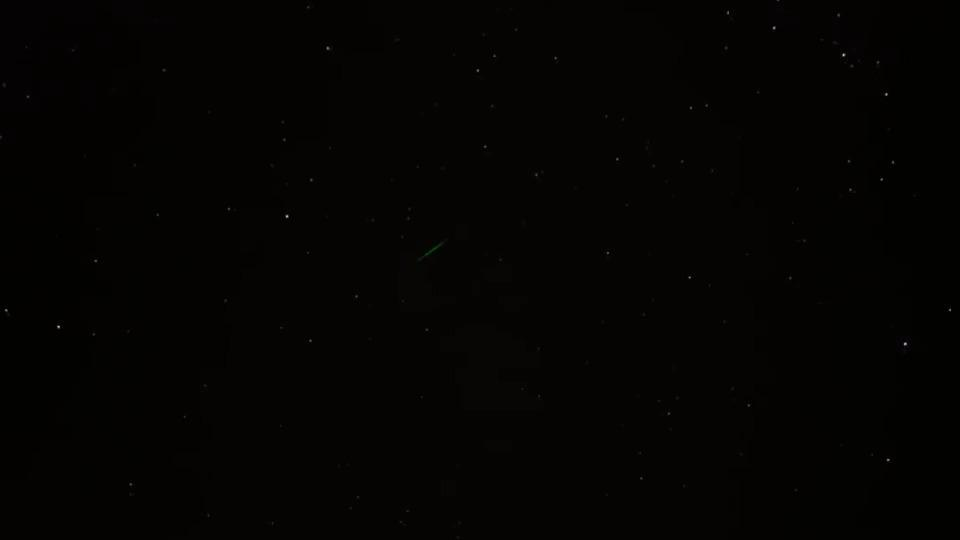meteorite: (381, 237, 490, 264)
